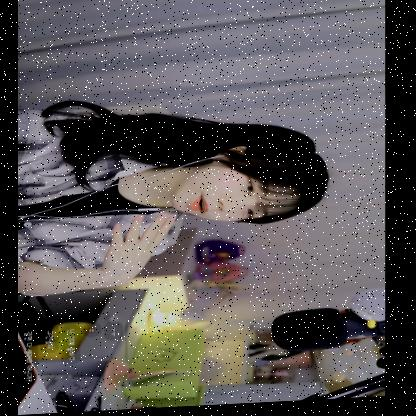streamer: (18, 90, 330, 299)
